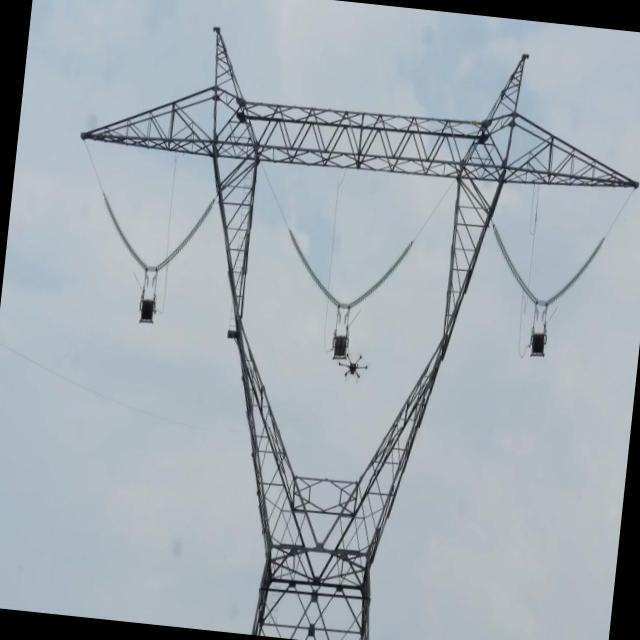drone: (335, 352, 371, 388)
